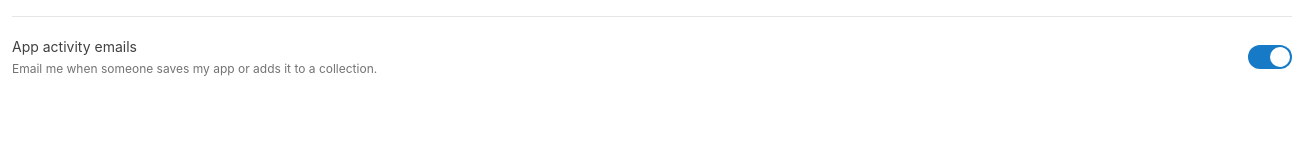
Scenario: app activity email preferences › does not show a successful opt-out if the server rejects it
Click the switch: (1270, 57) [1248,45,1292,69]
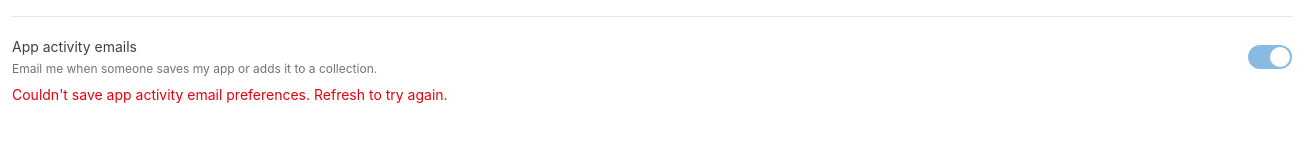
Expected: the message "Couldn't save app activity email preferences. Refresh to try again." is shown, [12,86,448,103]
